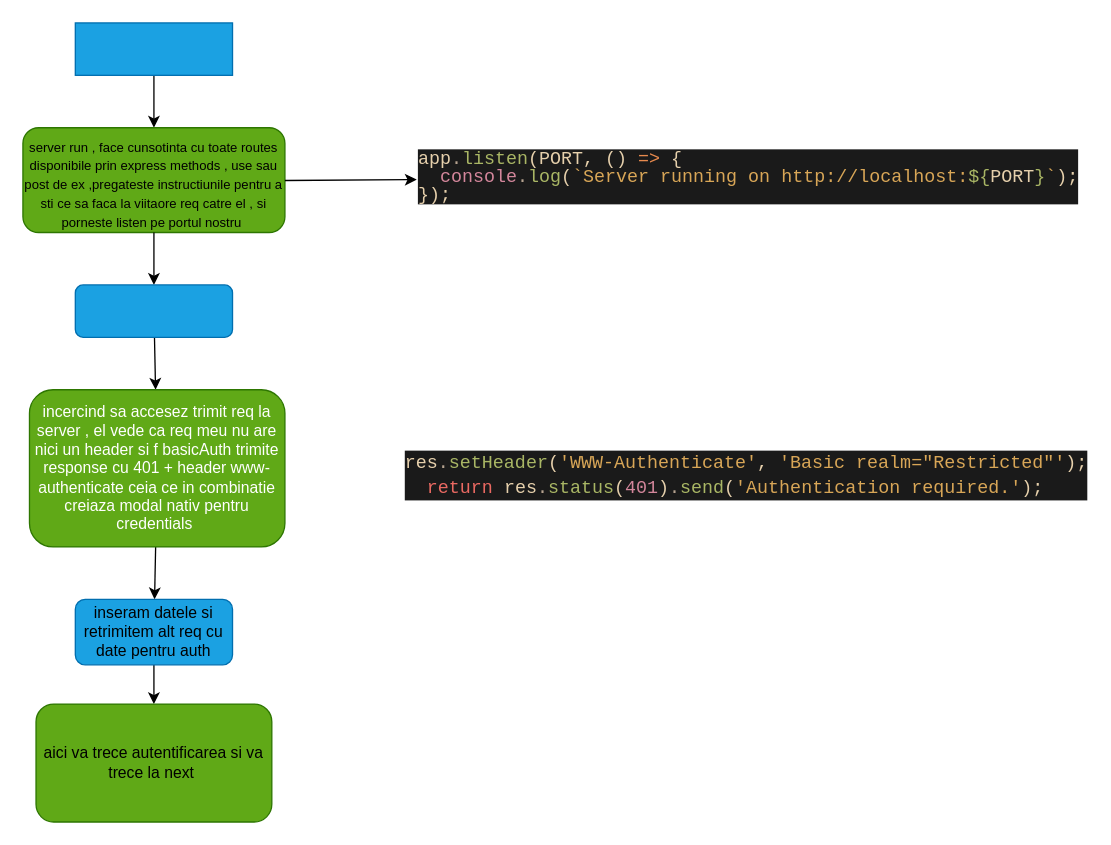
Some shapes in this 1111 by 845 pixel diagram are drawn without their labels. Here are the shapes that lost their labels. From the top down, the centre of each, then its label:
At [153,48]: "npm start".
At [153,310]: "localhost:PORT".
